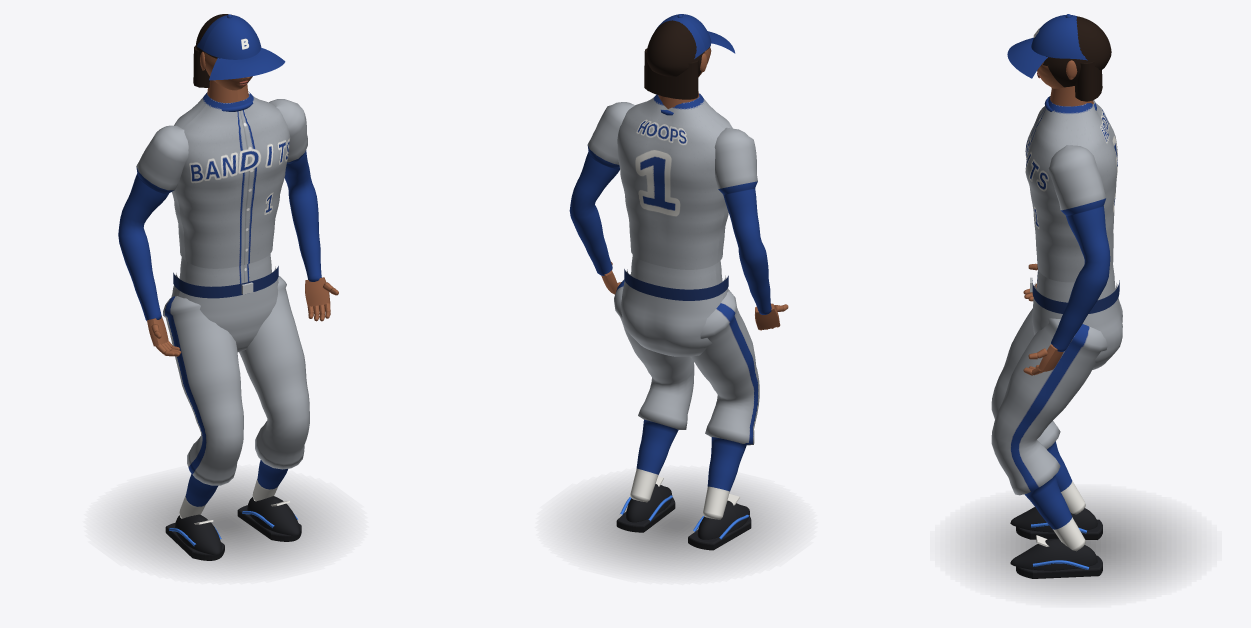
File: player_00_away.glb
3 renders of one model, left to right at view 1: azimuth 30°, elevation 25°; view 2: azimuth 150°, elevation 25°; view 3: azimuth 270°, elevation 25°, orthographic. The views are drawn at different scales.
Parts seen in each view (by area): view 1: player_00_away, object 31, object 33, object 2; view 2: player_00_away, object 29, object 30, object 31; view 3: player_00_away, object 31, object 29, object 33, object 35, object 30, object 2.
Part boxes in pixels (<box>): player_00_away: <box>116,92,334,570</box>; object 31: <box>197,15,261,59</box>; object 33: <box>209,47,285,80</box>; object 2: <box>207,80,248,102</box>; player_00_away: <box>568,94,784,570</box>; object 29: <box>646,20,710,76</box>; object 30: <box>644,48,698,99</box>; object 31: <box>654,14,711,58</box>; player_00_away: <box>965,96,1186,592</box>; object 31: <box>1031,14,1087,60</box>; object 29: <box>1046,16,1111,70</box>; object 33: <box>1007,37,1047,78</box>; object 35: <box>1037,58,1099,88</box>; object 30: <box>1075,61,1102,101</box>; object 2: <box>1050,86,1093,106</box>.
Bounding box in the file's own units: 3.13 × 5.8 × 3.13.
27 materials, 5 textured.
